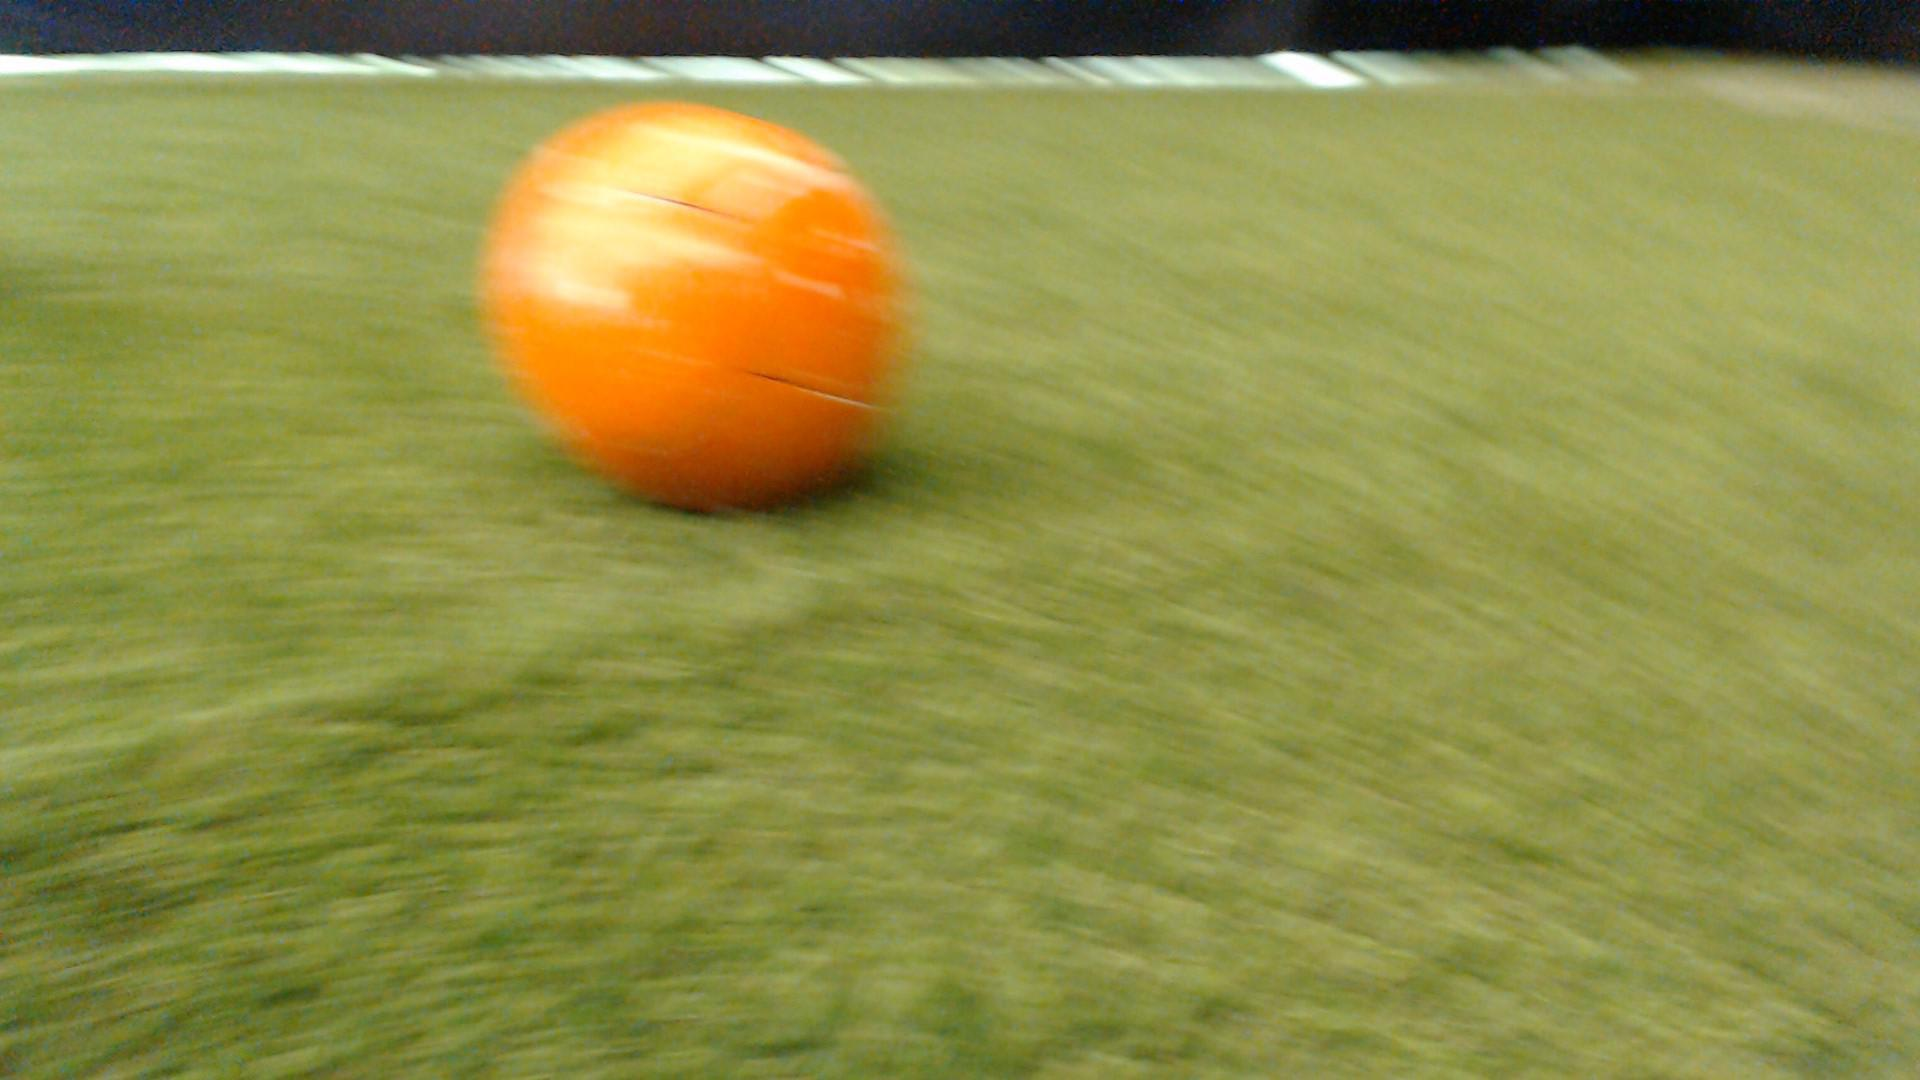bola: (477, 86, 934, 530)
